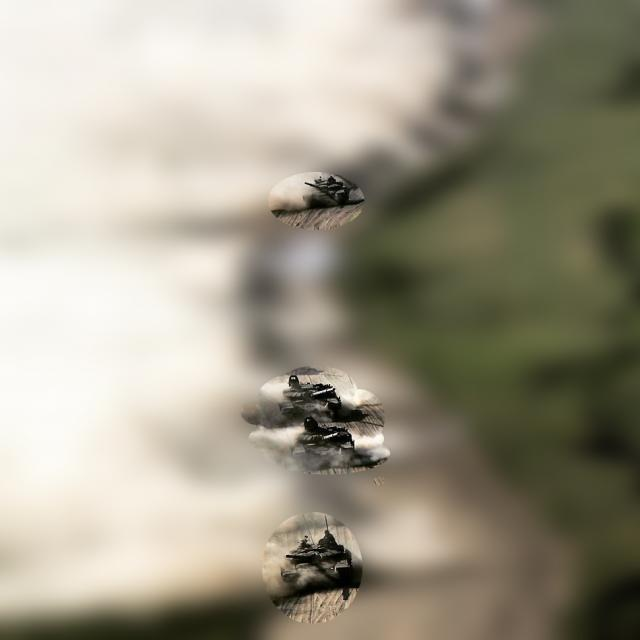tank: (278, 529, 358, 593), (266, 371, 360, 420), (286, 421, 368, 477), (296, 172, 366, 218)
